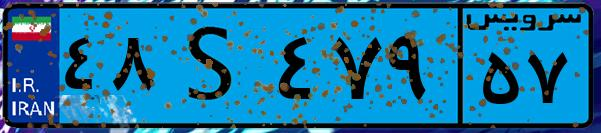4: (270, 28, 330, 110), (57, 26, 110, 100)
5: (475, 38, 525, 113)
7: (330, 28, 385, 110), (525, 38, 570, 115)
8: (110, 28, 158, 98)
9: (385, 28, 445, 110)
S: (158, 12, 270, 120)
